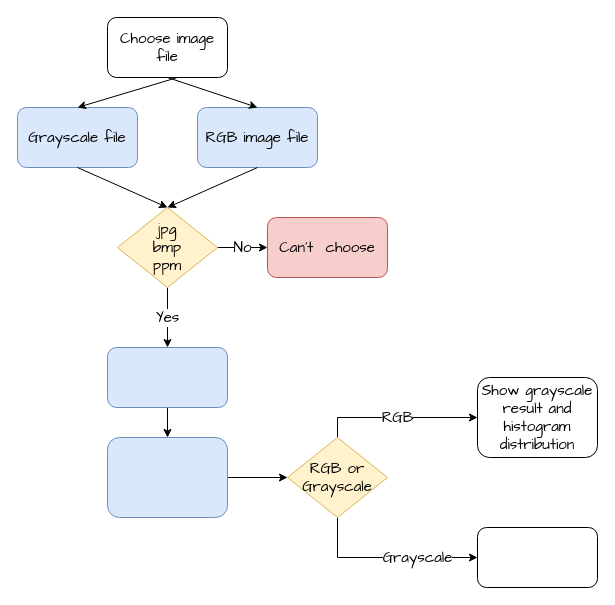
The diagram is 615 pixels wide and 605 high, and some of its shapes have lost their labels. The shapes that lost their labels are listed below. From the top down, each one's box as (x1, y1, x2, y2) in pixels, then its label:
(106, 346, 228, 408): Show image
(106, 436, 228, 518): Histogram (GrayScale) button click?
(476, 526, 598, 588): Show distribution
